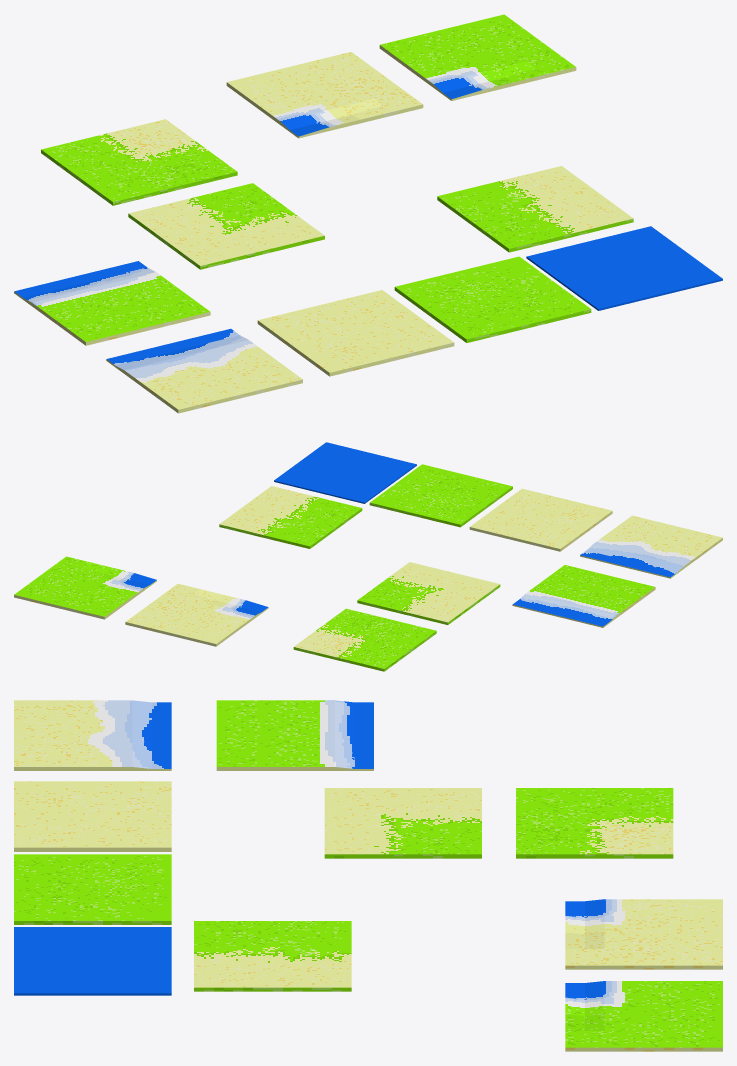
File: blocos_natureza.glb
3 renders of one model, top to bottom at view 1: azimuth 30°, elevation 25°; view 2: azimuth 150°, elevation 25°; view 3: azimuth 270°, elevation 25°, orthographic. The views are drawn at different scales.
Parts seen in each view (by area): view 1: grama, areia, canto_agua, canto_agua_areia, meio_grama_meio_areia, canto_grama, canto_areia, grama_agua, areia_agua, agua; view 2: grama, canto_grama, canto_areia, areia, meio_grama_meio_areia, areia_agua, grama_agua, canto_agua_areia, canto_agua, agua; view 3: grama, meio_grama_meio_areia, canto_grama, canto_areia, areia, canto_agua, canto_agua_areia, grama_agua, areia_agua, agua.
Boxes of the visible parts, bbox=[...] form: grama: bbox=[394, 256, 591, 342]; areia: bbox=[257, 290, 454, 376]; canto_agua: bbox=[379, 14, 576, 100]; canto_agua_areia: bbox=[226, 52, 423, 138]; meio_grama_meio_areia: bbox=[437, 166, 633, 252]; canto_grama: bbox=[128, 183, 324, 269]; canto_areia: bbox=[41, 119, 237, 205]; grama_agua: bbox=[14, 261, 210, 345]; areia_agua: bbox=[106, 328, 302, 413]; agua: bbox=[526, 226, 722, 310]; grama: bbox=[369, 464, 512, 527]; canto_grama: bbox=[357, 562, 500, 624]; canto_areia: bbox=[293, 608, 436, 671]; areia: bbox=[469, 488, 612, 551]; meio_grama_meio_areia: bbox=[219, 486, 362, 548]; areia_agua: bbox=[580, 515, 722, 578]; grama_agua: bbox=[512, 565, 655, 627]; canto_agua_areia: bbox=[125, 583, 268, 646]; canto_agua: bbox=[14, 556, 156, 619]; agua: bbox=[274, 442, 416, 503]; grama: bbox=[14, 854, 171, 924]; meio_grama_meio_areia: bbox=[194, 921, 351, 991]; canto_grama: bbox=[324, 788, 481, 858]; canto_areia: bbox=[516, 788, 673, 858]; areia: bbox=[14, 781, 171, 851]; canto_agua: bbox=[565, 981, 722, 1051]; canto_agua_areia: bbox=[565, 899, 722, 969]; grama_agua: bbox=[216, 700, 373, 770]; areia_agua: bbox=[14, 700, 171, 770]; agua: bbox=[14, 927, 171, 995].
Bounding box in the file's own units: 22.81 × 0.125 × 19.69.
1 material, 1 textured.
